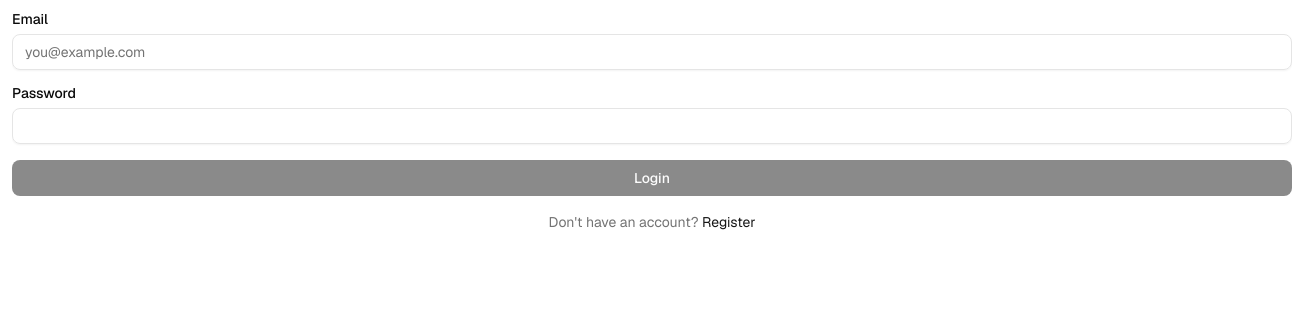
Scenario: LoginForm › should show error for invalid credentials (401)
In the field labelled "Email": (652, 52) [12,34,1292,70], type "test@example.com"
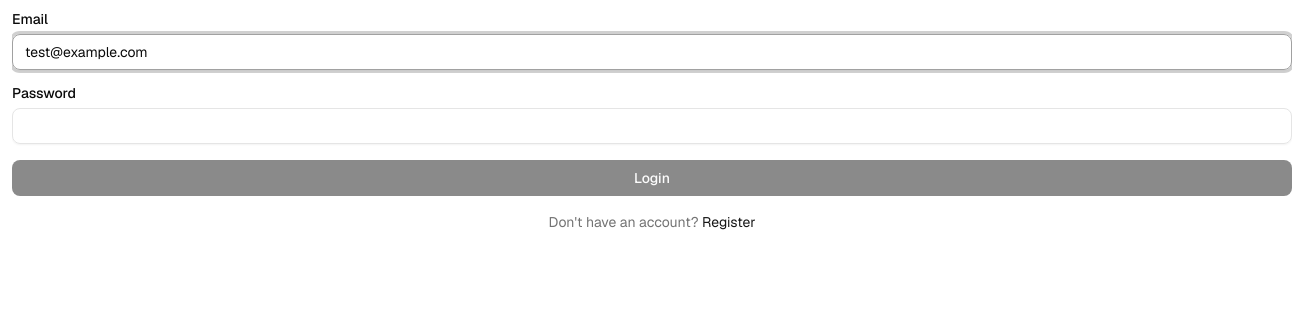
In the password field labelled "Password": (652, 126) [12,108,1292,144], type "wrongpassword"
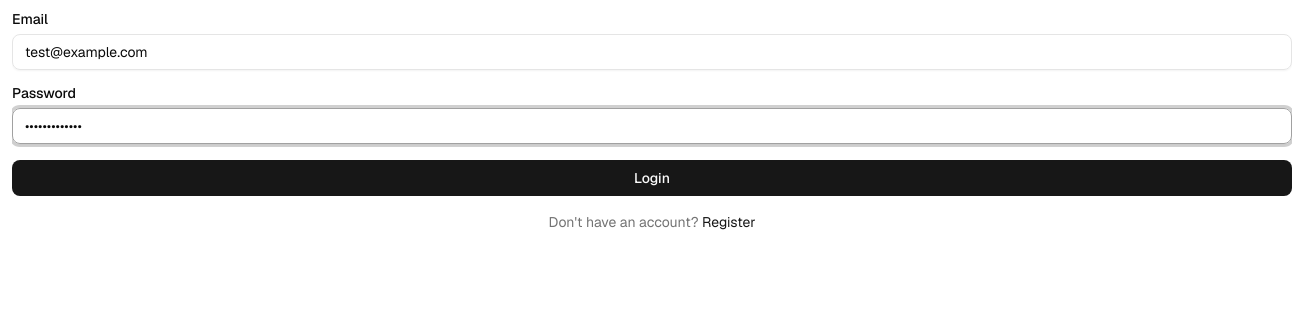
Click the button "Login": (652, 178) [12,160,1292,196]
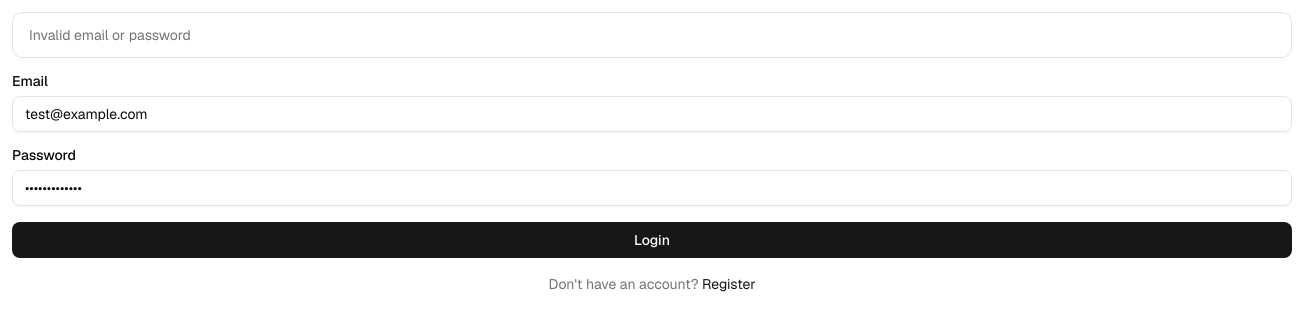
expect the text "Invalid email or password" is shown: met, box [29,26,191,44]
